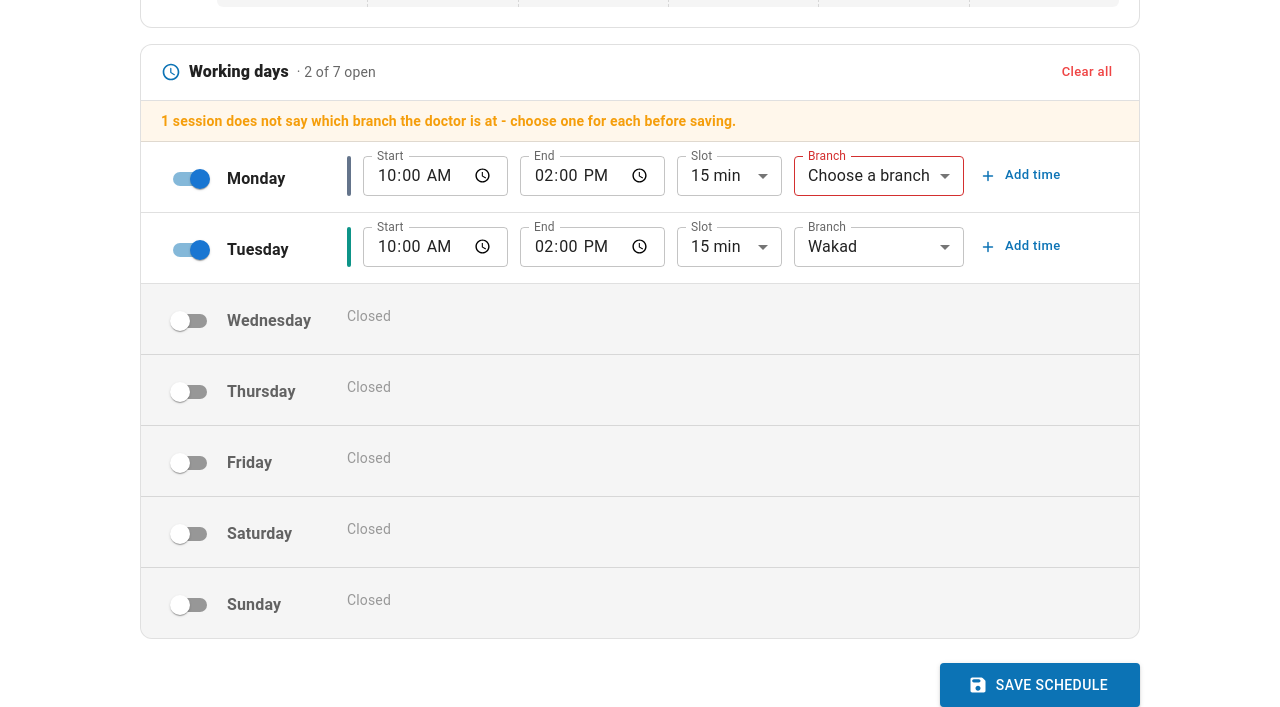
Test case: DoctorSchedule - the branch of each session › a doctor at two branches: no 'Every branch', and a session without one must be given one
(page scrolled)
Expected: the text "1 session does not say which branch" is shown, [161,113,736,129]
Expected: the dropdown "Choose a branch" is shown, [808,166,930,185]
Click the button "Save Schedule": (1040, 685) [940,663,1140,706]
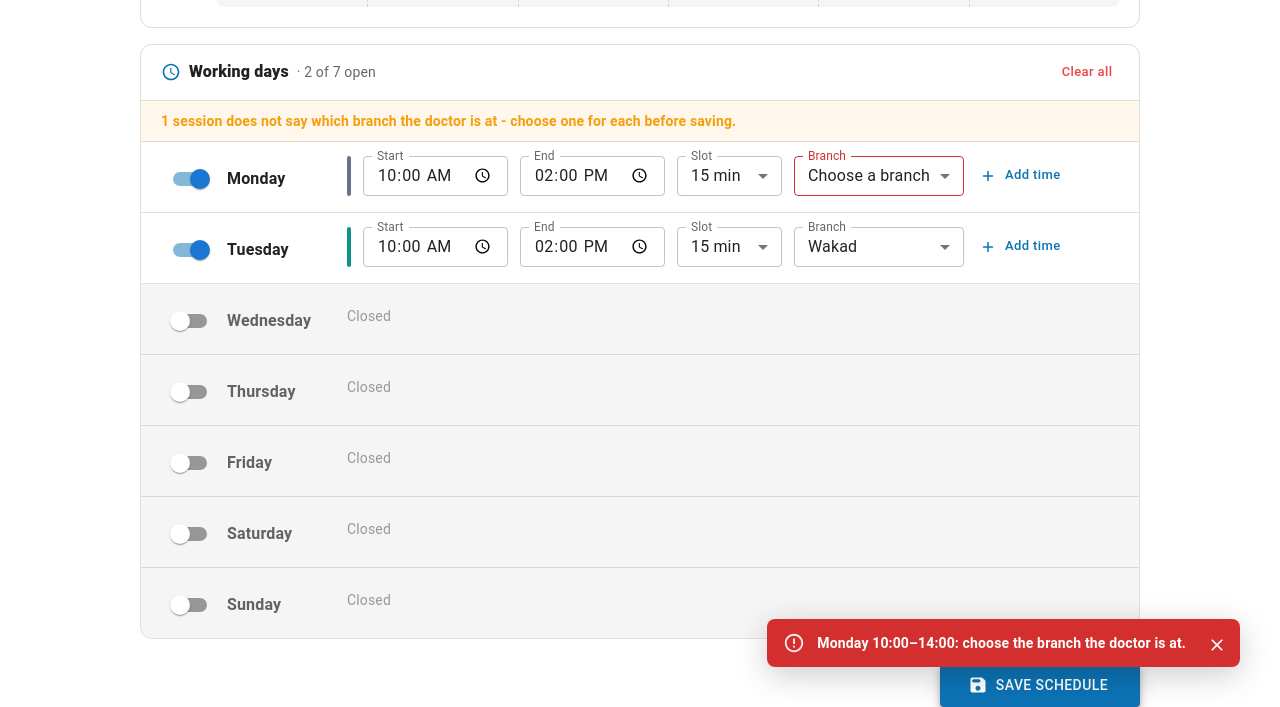
Result: the text "Monday 10:00–14:00: choose the branch the doctor is at." is shown at [817,635,1186,651]
